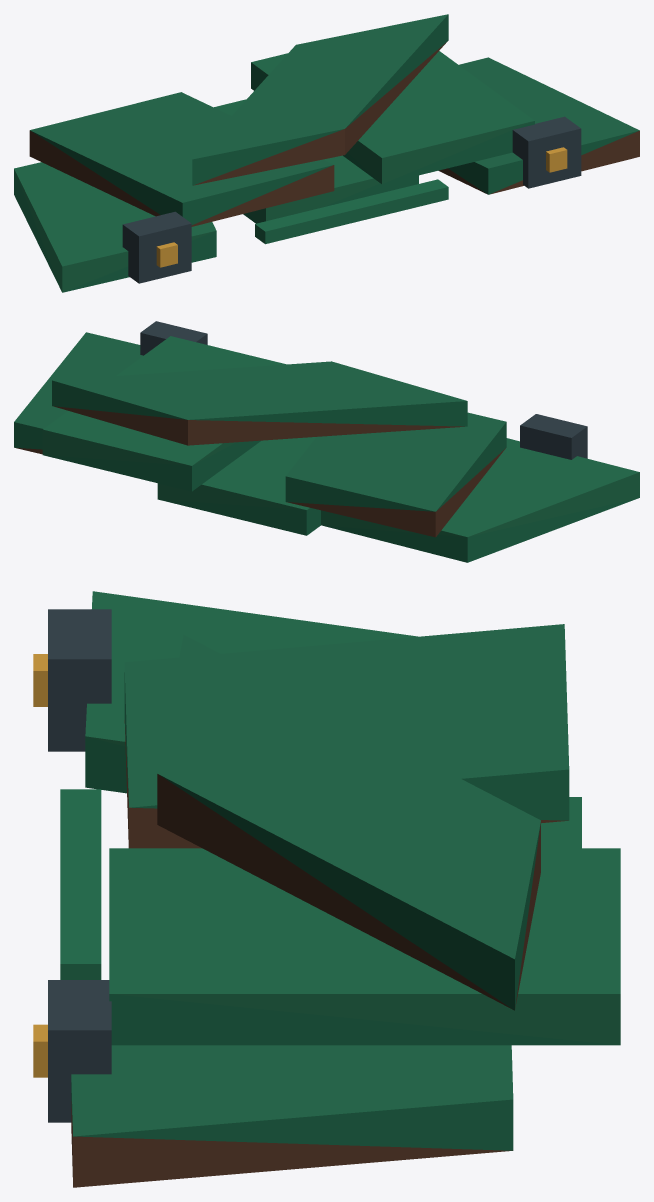
File: scrap-planks-mint.glb
3 views of the same model, one above another, from view 1: azimuth 30°, elevation 25°; view 2: azimuth 150°, elevation 25°; view 3: azimuth 270°, elevation 25° (orthographic). The views are drawn at different scales.
Visible parts, largest first — view 1: scrap-planks-mint; view 2: scrap-planks-mint; view 3: scrap-planks-mint.
Part boxes in pixels (box(x1,y1,x2,y2)): scrap-planks-mint: box(14, 14, 639, 292); scrap-planks-mint: box(14, 321, 639, 562); scrap-planks-mint: box(33, 591, 620, 1187).
Size of the model in its own units: 1.52 by 0.2 by 0.6915.
